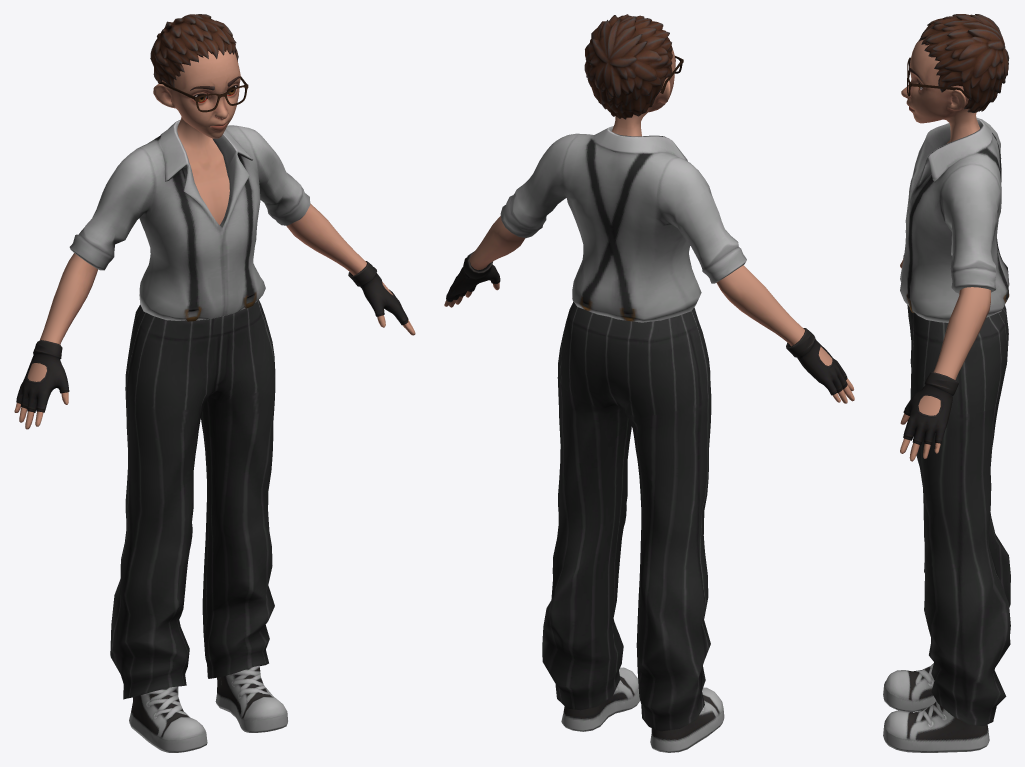
File: StaffDestroyer_Mesh.obj
3 views of the same model, side by side, from view 1: azimuth 30°, elevation 25°; view 2: azimuth 150°, elevation 25°; view 3: azimuth 270°, elevation 25° (orthographic). The views are drawn at different scales.
Visible parts, largest first — view 1: StaffDestroyer_Mesh_0; view 2: StaffDestroyer_Mesh_0; view 3: StaffDestroyer_Mesh_0.
Part boxes in pixels (x1,y1,x2,y2): StaffDestroyer_Mesh_0: (14,14,415,752); StaffDestroyer_Mesh_0: (444,14,854,752); StaffDestroyer_Mesh_0: (883,14,1010,752).
Size of the model in its own units: 1.06 by 1.81 by 0.2966.
1 material, 1 textured.
